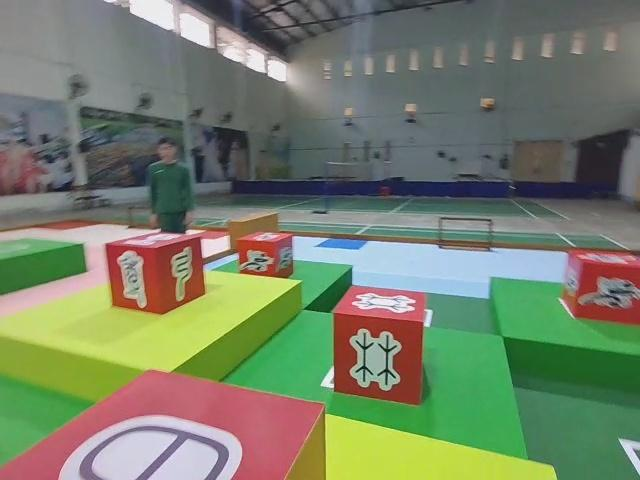R1: (558, 241, 640, 326), (235, 234, 297, 284)
R2 Fake: (0, 370, 345, 480), (102, 231, 206, 319)
R2 Real: (326, 281, 428, 403)
